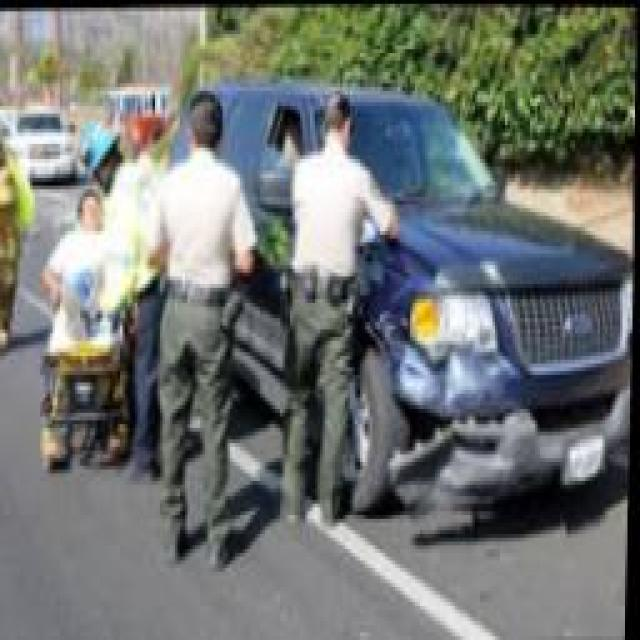Bumper: (385, 379, 633, 529)
Fender: (410, 337, 509, 417)
